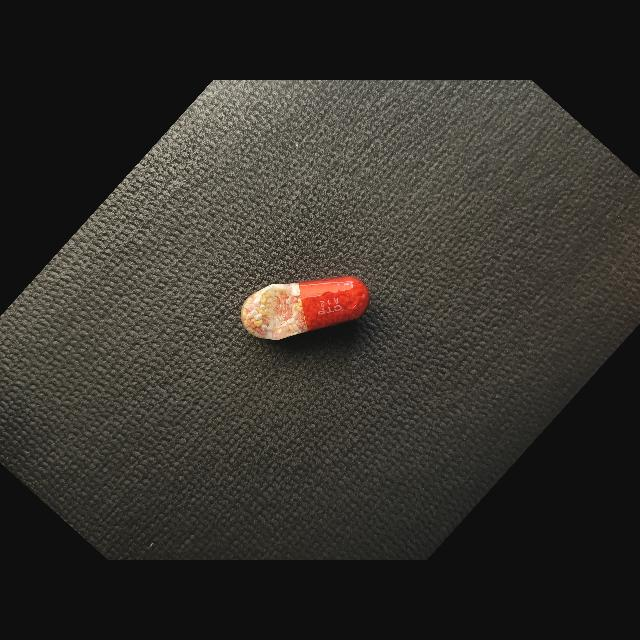Defective Capsule: (241, 276, 370, 340)
